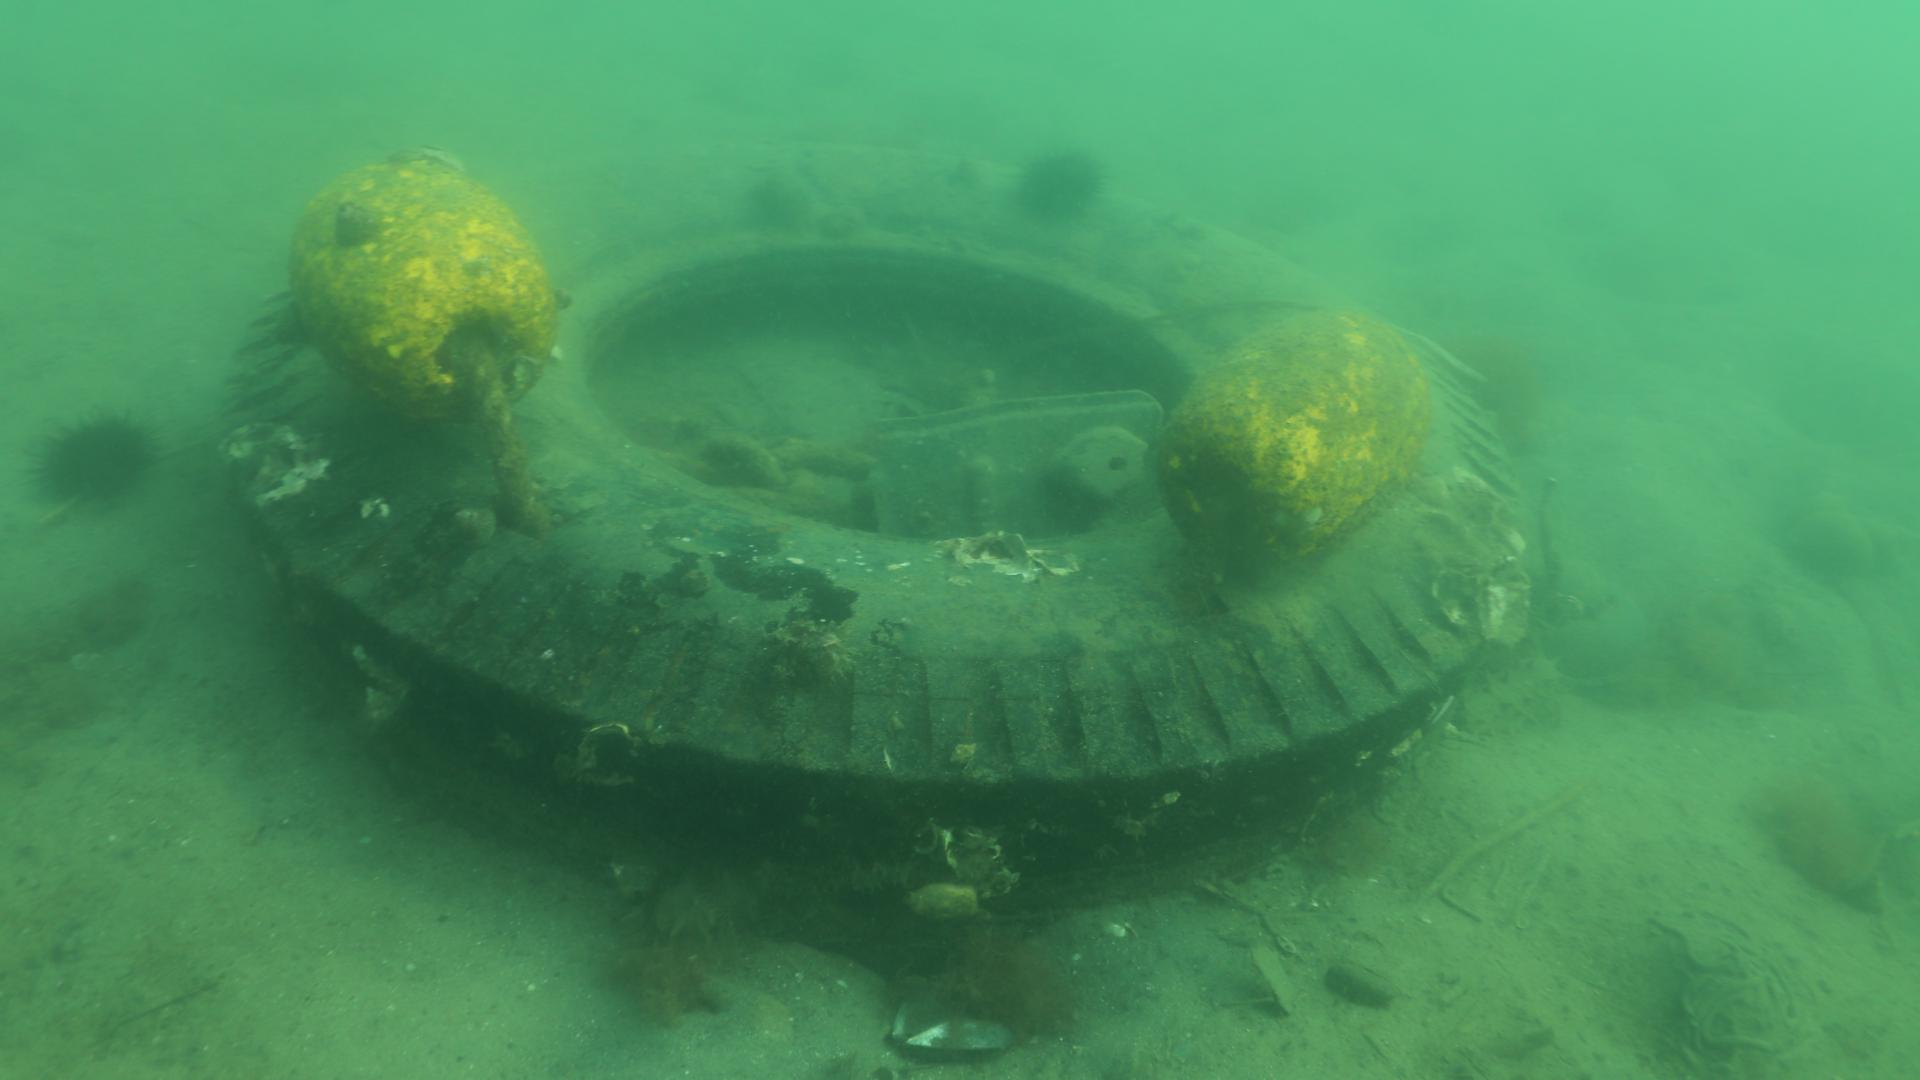tire: (220, 138, 1524, 949)
